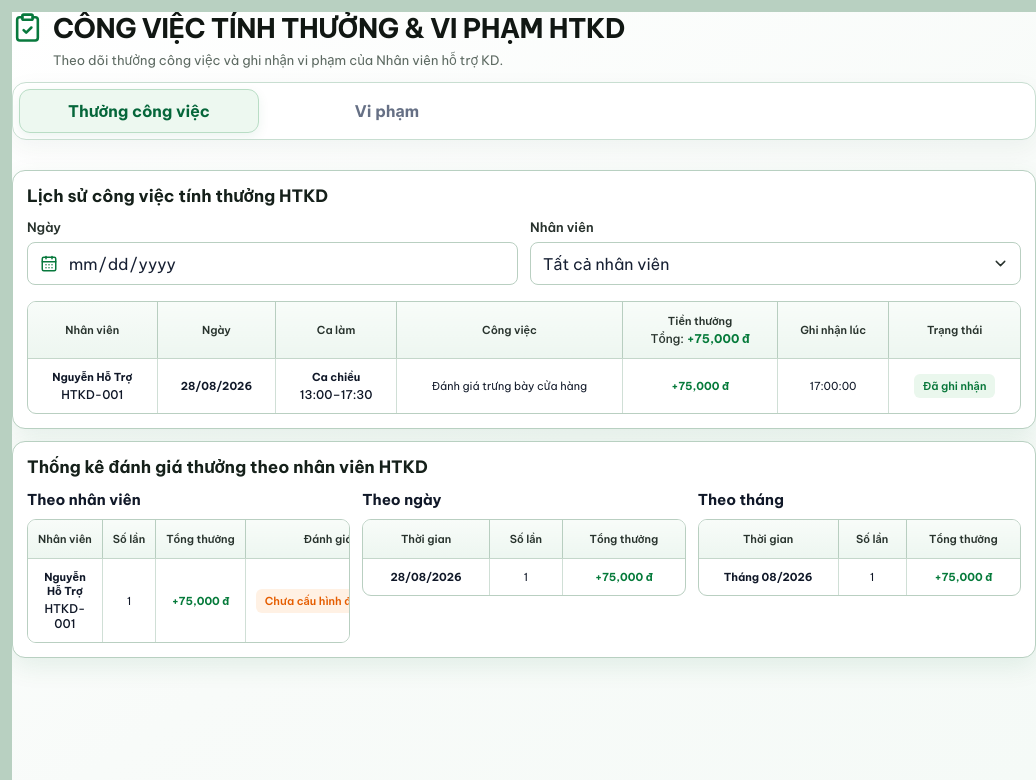
support work screens › filters HTKD reward history by date and employee and shows the filtered total
Expected: the dropdown named "Nhân viên nhận thưởng" is shown, [543,243,986,284]
Type "2026-08-29" into the date field named "Ngày nhận thưởng" at (286, 264), box [67,243,505,284]
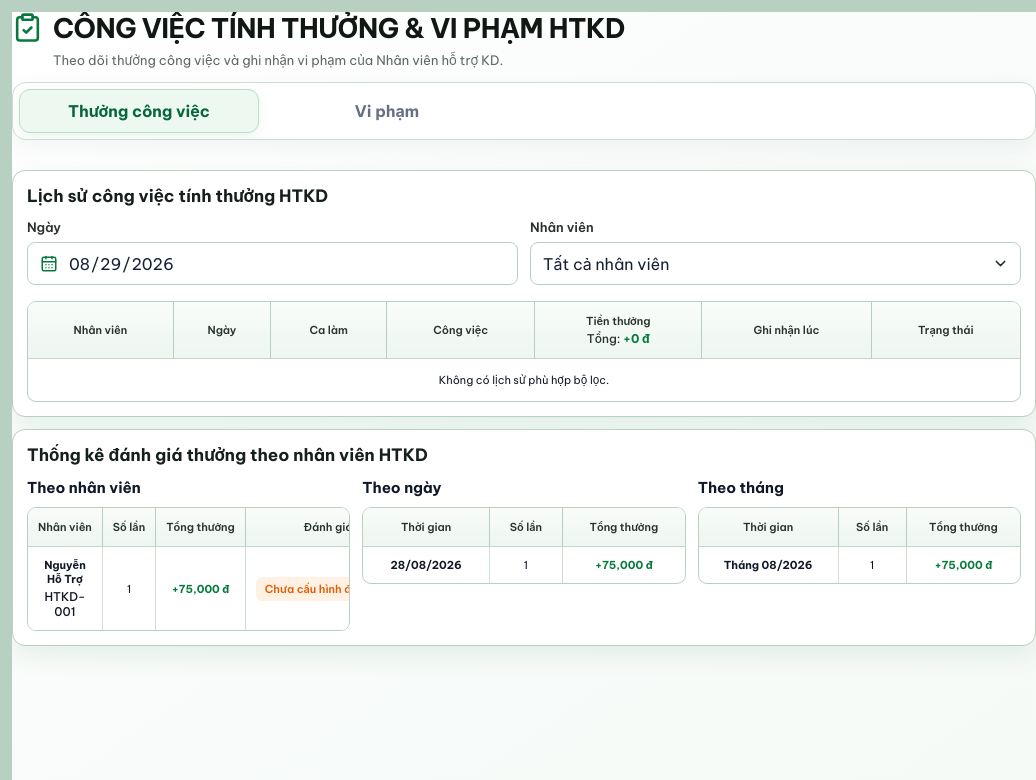
Result: the text "Không có lịch sử phù hợp bộ lọc." is shown at [28,358,1020,401]
